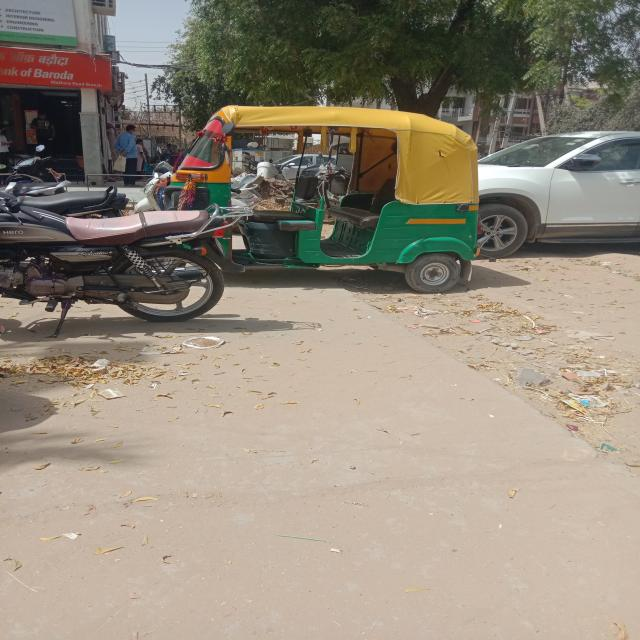Autorickshaw: (132, 98, 486, 298)
Bike: (0, 191, 227, 325), (132, 160, 280, 210), (3, 178, 138, 225), (2, 139, 78, 191), (305, 160, 360, 202)
Car: (471, 120, 640, 268), (257, 151, 349, 186)
